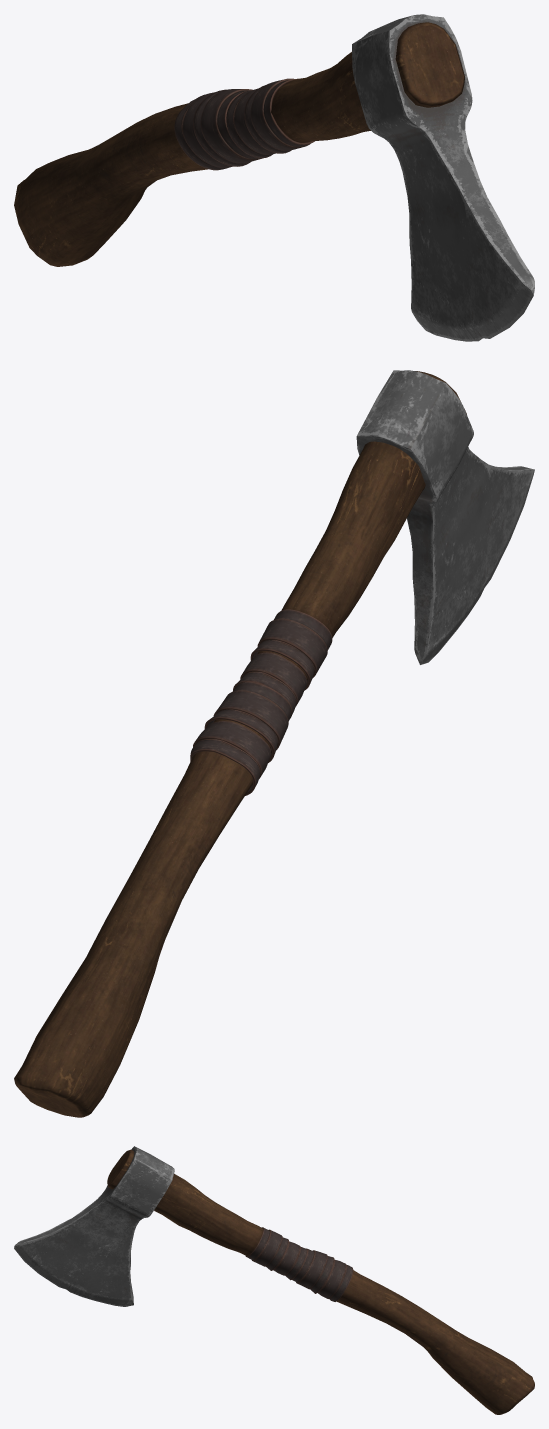
The model's file is axe.glb.
The picture shows the model from 3 angles, top to bottom: view 1: azimuth 30°, elevation 25°; view 2: azimuth 150°, elevation 25°; view 3: azimuth 270°, elevation 25°; orthographic projection. The views are drawn at different scales.
Parts seen in each view (by area): view 1: axe_1; view 2: axe_1; view 3: axe_1.
Part boxes in pixels (x1,y1,x2,y2): axe_1: (14, 14, 534, 341); axe_1: (14, 370, 534, 1117); axe_1: (14, 1146, 534, 1414).
Size of the model in its own units: 0.0605 by 0.3788 by 0.6853.
1 material, 1 textured.
